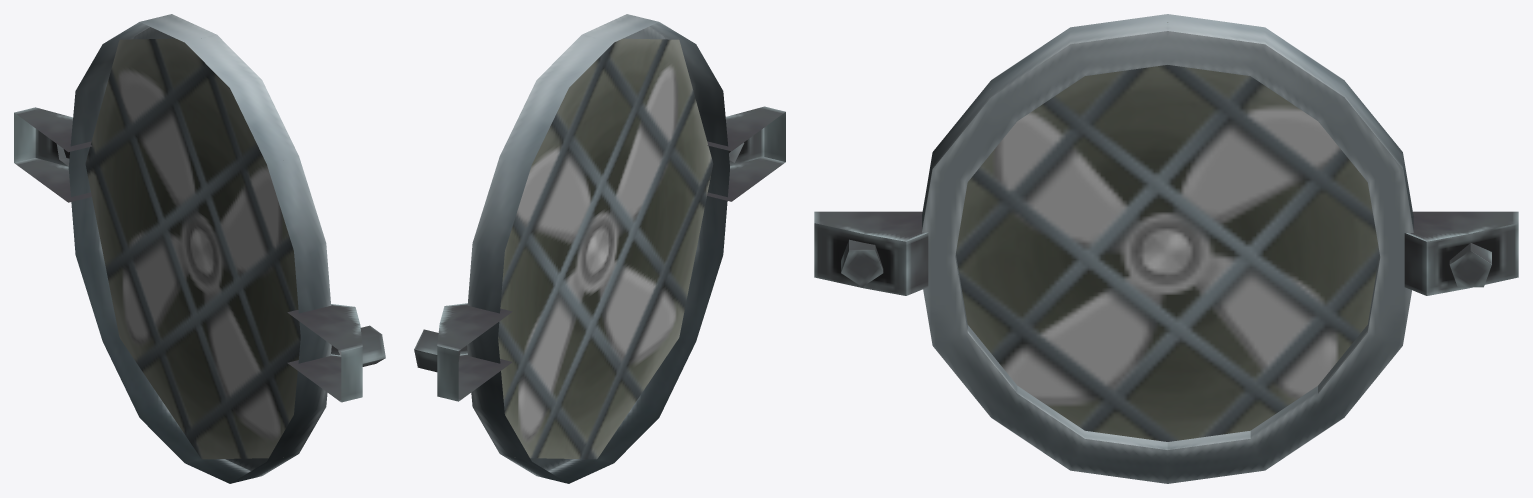
Rendered from fan_core.fbx.
3 renders of one model, left to right at view 1: azimuth 30°, elevation 25°; view 2: azimuth 150°, elevation 25°; view 3: azimuth 270°, elevation 25°, orthographic. The views are drawn at different scales.
Visible parts, largest first — view 1: fan_core; view 2: fan_core; view 3: fan_core.
Part boxes in pixels (<box>): fan_core: <box>14,14,385,483</box>; fan_core: <box>414,14,785,483</box>; fan_core: <box>814,14,1518,483</box>.
Bounding box in the file's own units: 0.2006 × 1.41 × 1.99.
